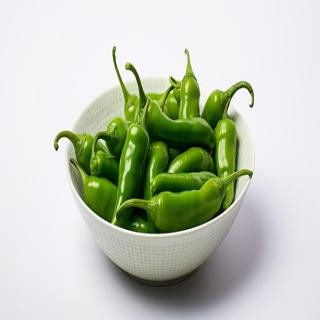Cabai Hijau: (51, 29, 271, 241)
